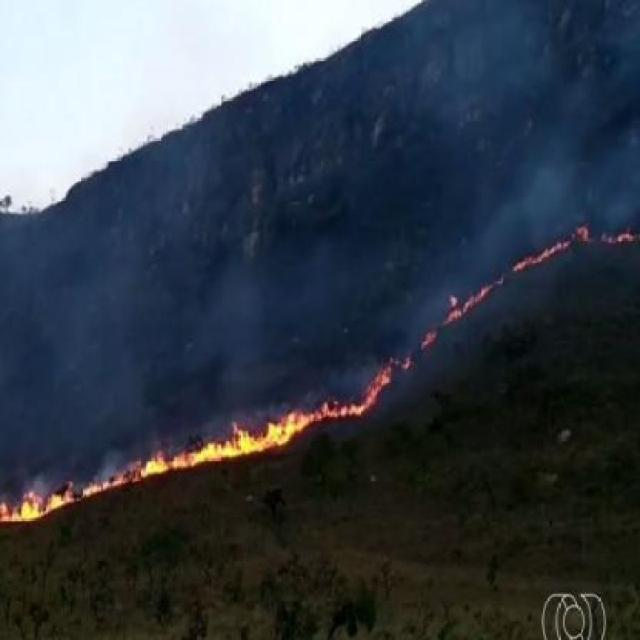Fire: (143, 400, 312, 469), (1, 469, 76, 531), (313, 358, 390, 418), (446, 276, 502, 322), (510, 236, 573, 269), (84, 472, 142, 496)
